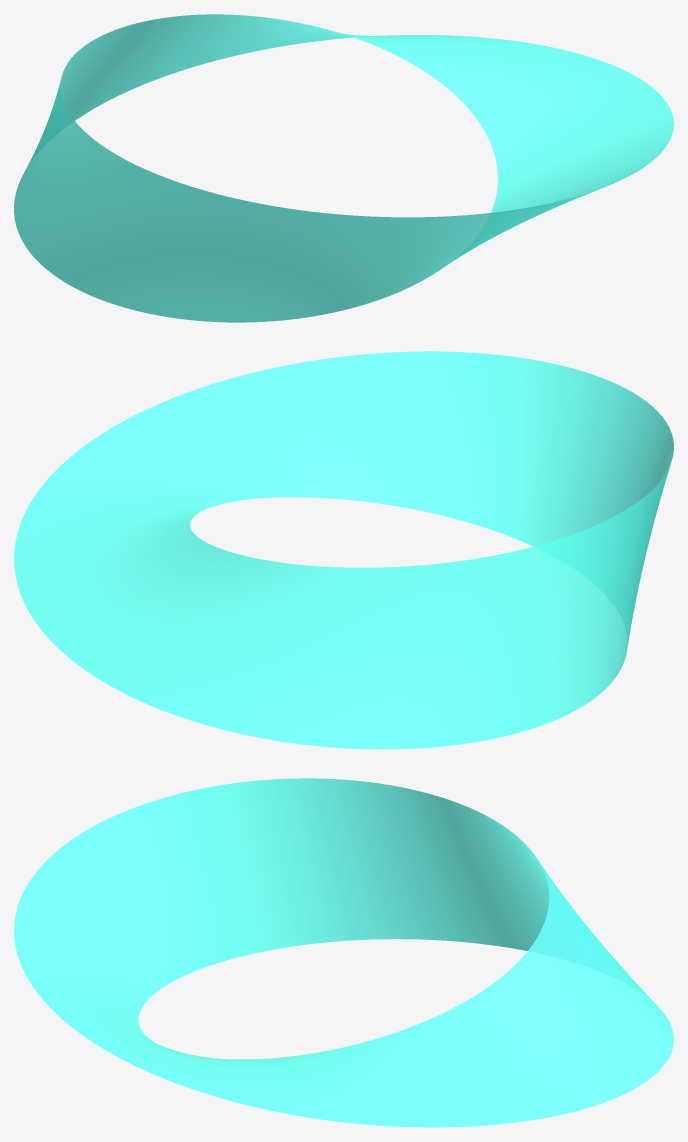
The model's file is healthcare-mobius.glb.
3 views of the same model, one above another, from view 1: azimuth 30°, elevation 25°; view 2: azimuth 150°, elevation 25°; view 3: azimuth 270°, elevation 25° (orthographic). The views are drawn at different scales.
Parts seen in each view (by area): view 1: Healthcare_Mobius; view 2: Healthcare_Mobius; view 3: Healthcare_Mobius.
Part boxes in pixels (x1,y1,x2,y2): Healthcare_Mobius: [14, 14, 673, 322]; Healthcare_Mobius: [14, 351, 673, 749]; Healthcare_Mobius: [14, 778, 673, 1127].
Size of the model in its own units: 5.05 by 1.44 by 5.34.
